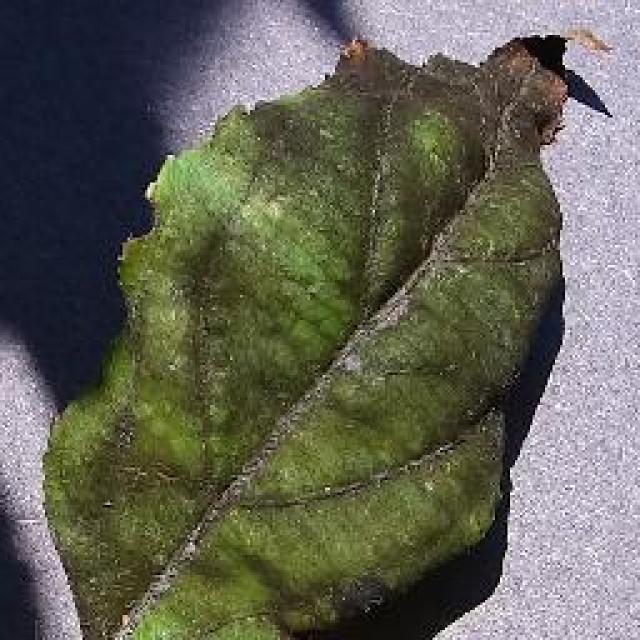apple scab disease: (37, 22, 615, 638)
